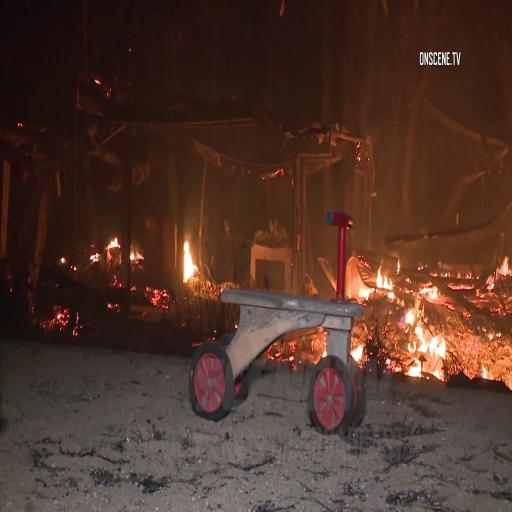fire: (404, 310, 445, 382)
